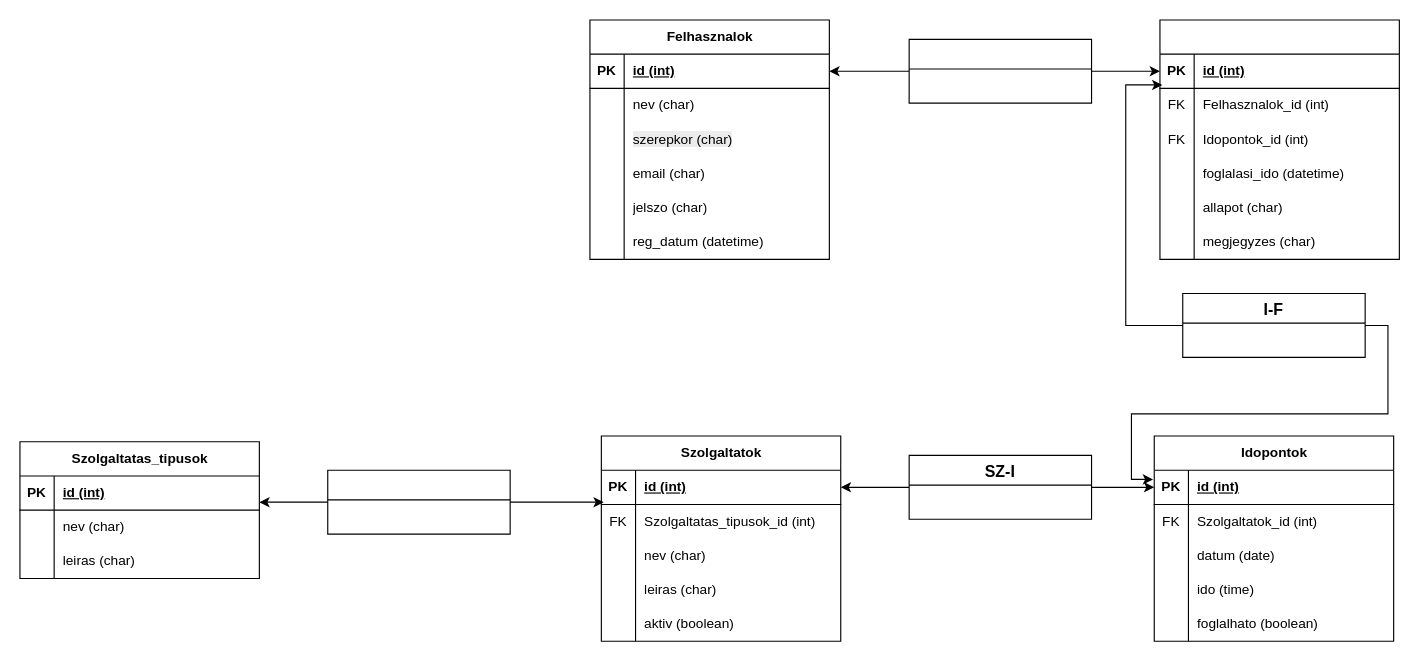
This 1419x661 diagram has some shape labels left out. Here are the shapes that lost their labels. From the top down, the box of each, then its label:
(908, 38, 1092, 103): F-F
(1159, 19, 1399, 259): Foglalasok
(327, 469, 510, 534): SZ_T-SZ
